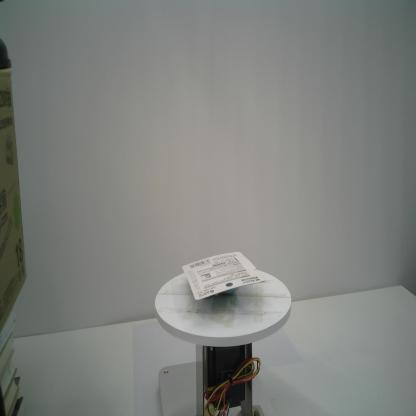Stationery: (182, 250, 266, 301)
